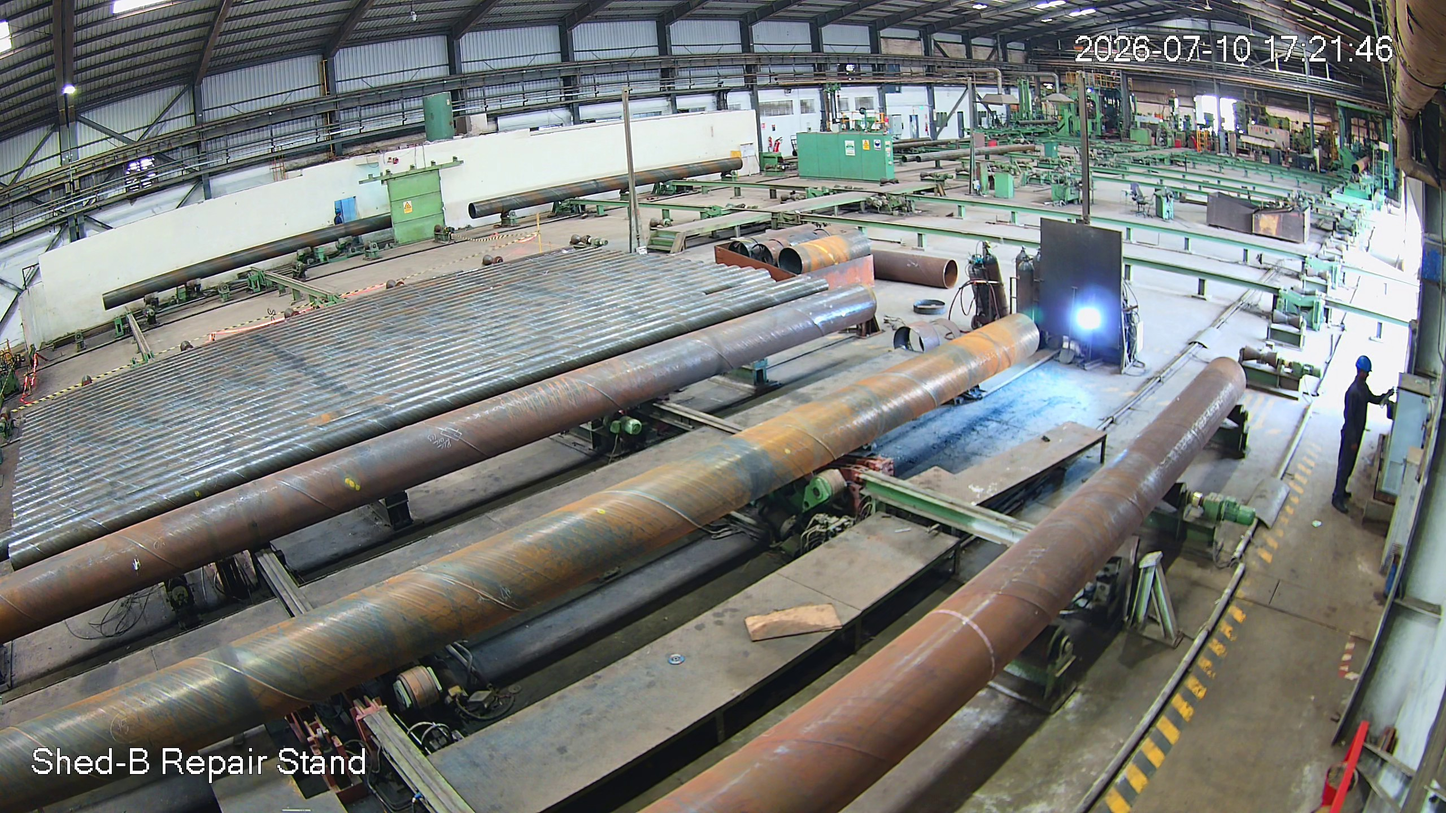Helmet: (1348, 350, 1377, 386)
Person: (1328, 354, 1385, 509)
